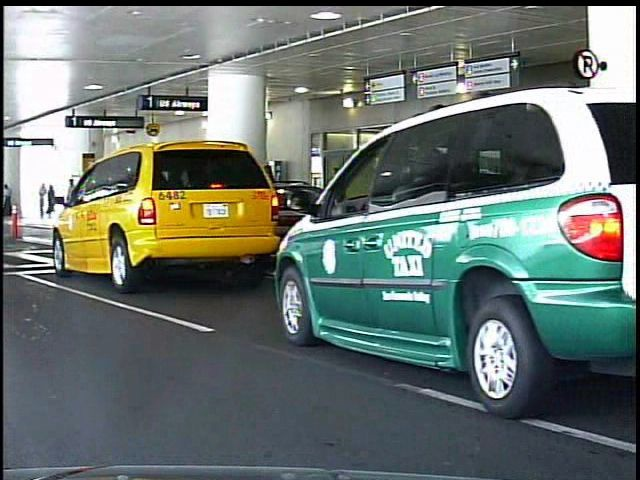person: (64, 176, 84, 231), (49, 182, 62, 221), (41, 181, 52, 221), (5, 183, 14, 214)
